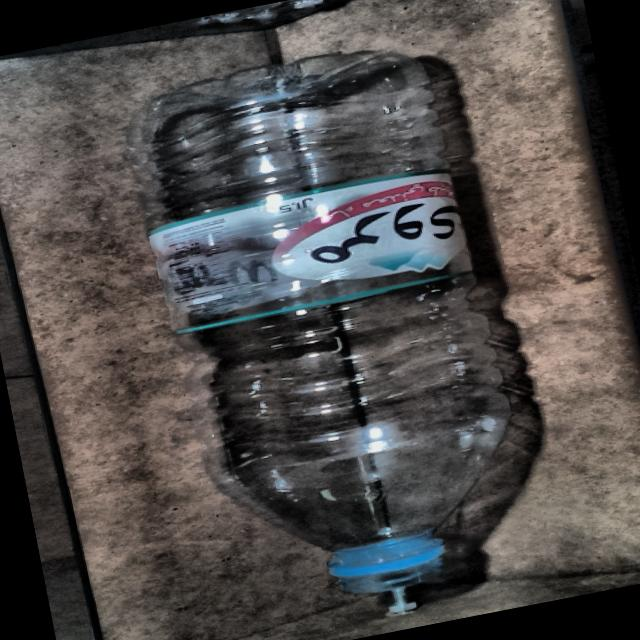plastic bottle: (133, 50, 510, 593)
